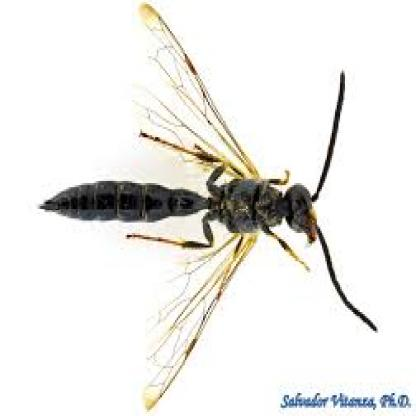sawfly: (42, 0, 375, 415)
